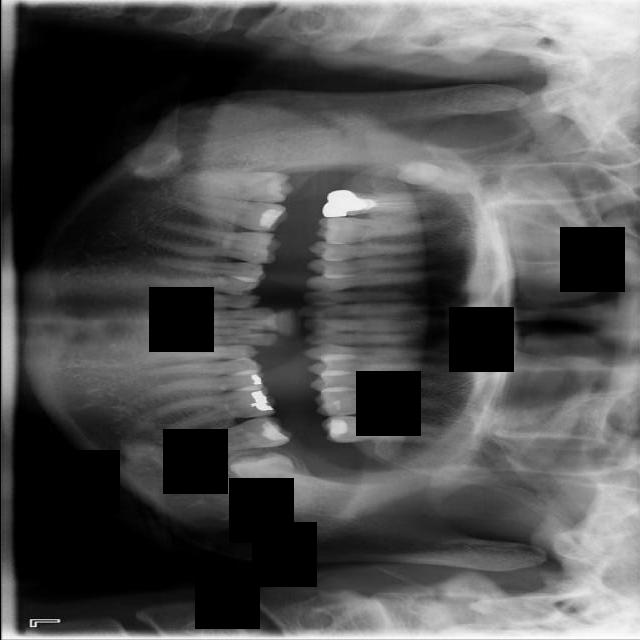3M ESPE Implant: (393, 154, 485, 204)
52: (236, 194, 291, 240), (220, 384, 276, 420), (234, 415, 292, 449), (312, 385, 363, 418), (318, 415, 366, 443), (320, 189, 362, 218), (219, 369, 264, 392), (242, 236, 277, 255), (232, 354, 256, 368), (250, 267, 262, 271)
73: (353, 190, 449, 217), (46, 612, 58, 620)
BioHorizons Implant: (319, 416, 464, 444)
Biomet 3i Implant: (225, 430, 323, 525)
Blue Sky Bio Implant: (167, 412, 294, 463)
Caries: (319, 187, 449, 218)
Implant: (172, 187, 290, 237)
Keystone Dental Implant: (173, 170, 293, 204)
